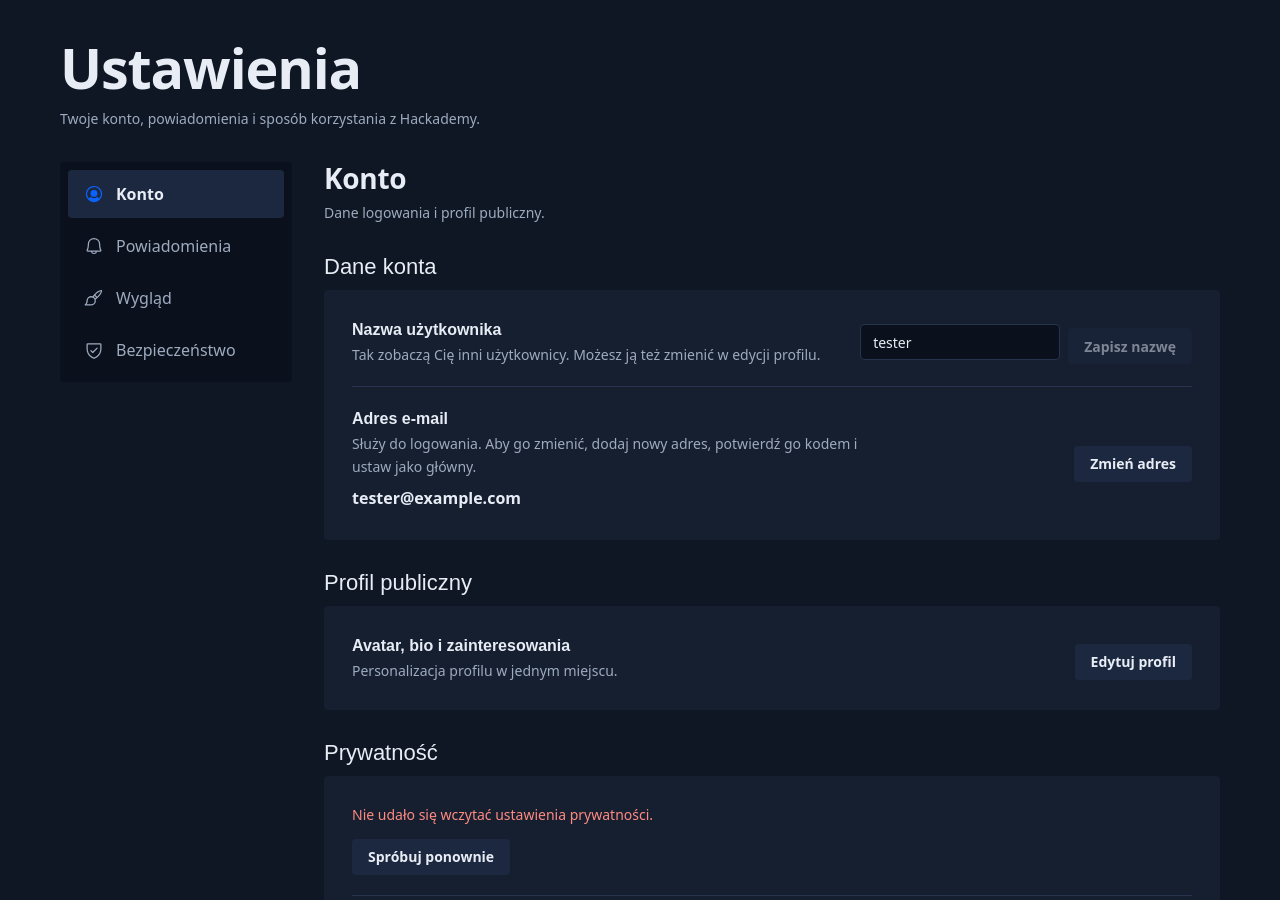
Test: settings › offers a retry when the privacy setting cannot be read
Expected: the text "Nie udało się wczytać ustawienia prywatności." is shown, [352,805,653,824]
Click the button "Spróbuj ponownie" at (431, 857), box [352,839,510,875]
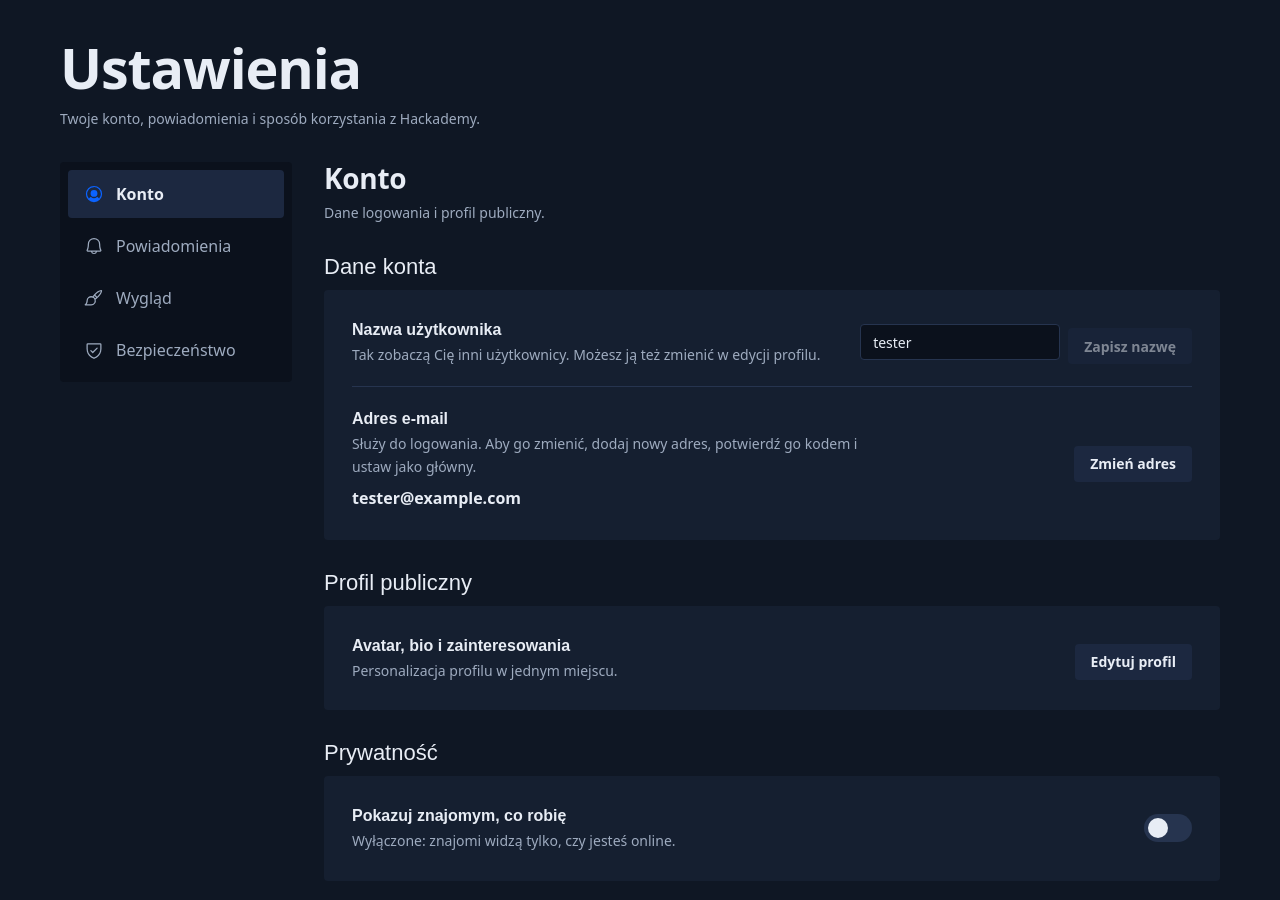
Expected: the switch named "Pokazuj znajomym, co robię" is enabled, [1144,814,1192,842]
Expected: the text "Nie udało się wczytać ustawienia prywatności." is gone
